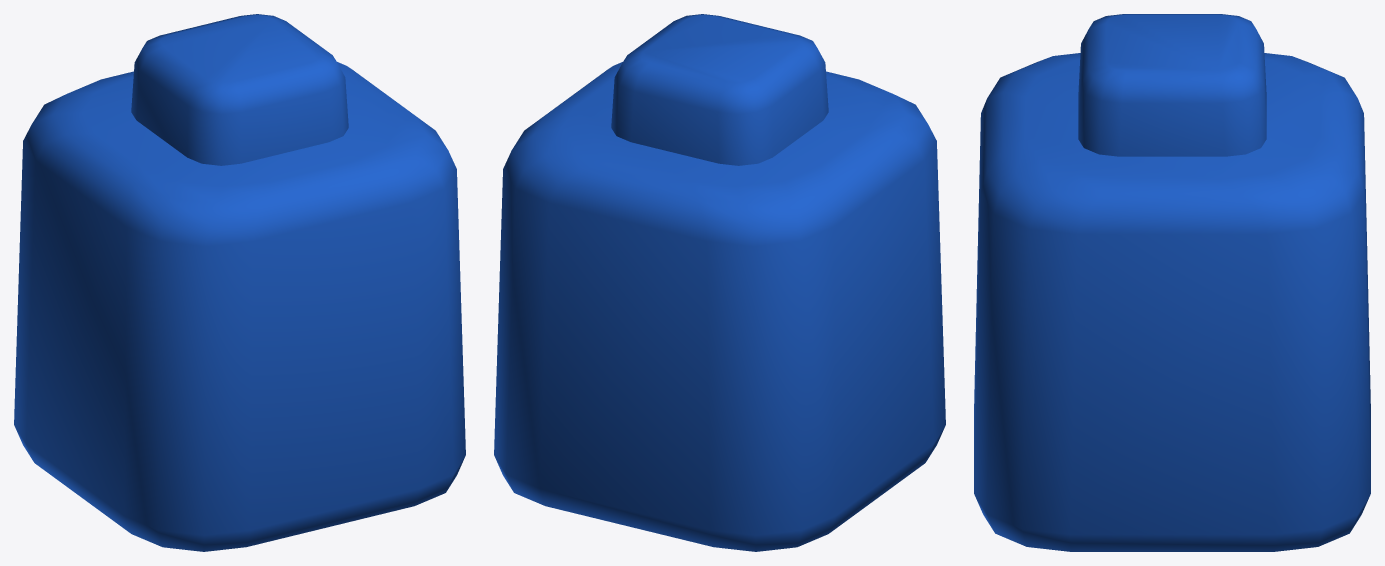
Rendered from block_square.fbx.
The picture shows the model from 3 angles, left to right: view 1: azimuth 30°, elevation 25°; view 2: azimuth 150°, elevation 25°; view 3: azimuth 270°, elevation 25°; orthographic projection. The views are drawn at different scales.
Parts seen in each view (by area): view 1: block_square; view 2: block_square; view 3: block_square.
Boxes of the visible parts, x1,y1,x2,y2 form: block_square: (14, 14, 465, 551); block_square: (494, 14, 945, 551); block_square: (974, 14, 1370, 551).
Size of the model in its own units: 98.38 by 98.38 by 120.
